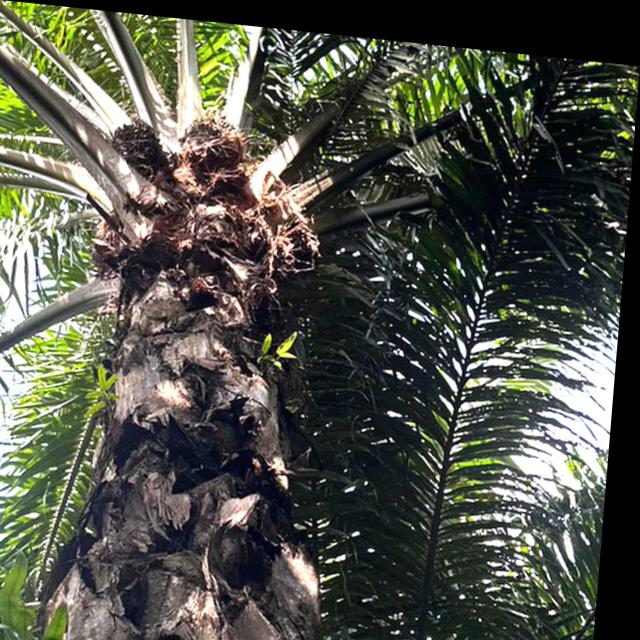unripe: (107, 108, 173, 171)
